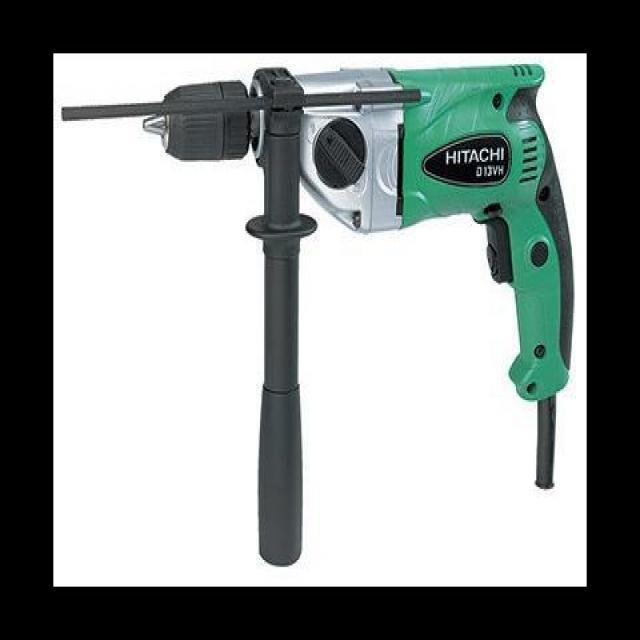drill: (60, 62, 576, 569)
